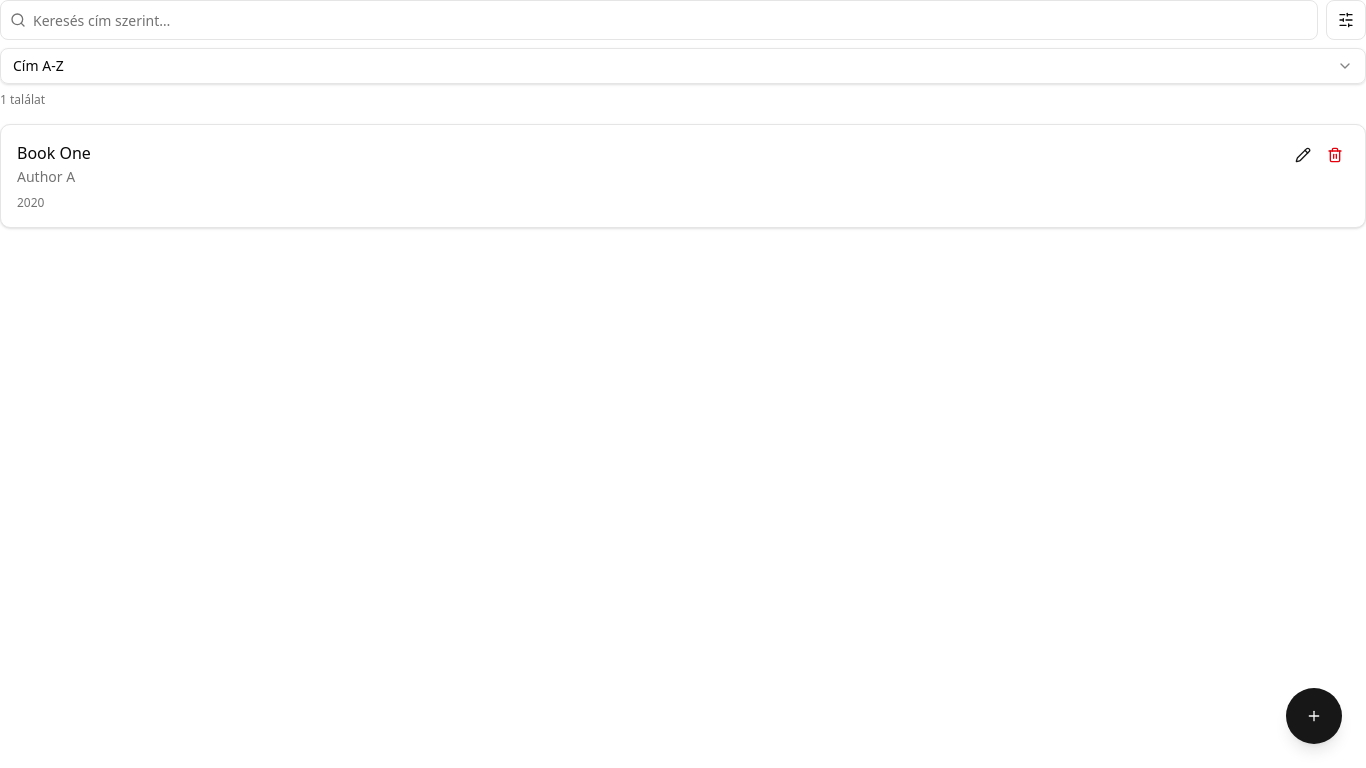
Test: BookCardView — data & rendering › tapping a card opens the BookDetailPanel
The image size is (1366, 768).
Click the button with test id "book-card" at (54,153), box [0,124,1365,228]
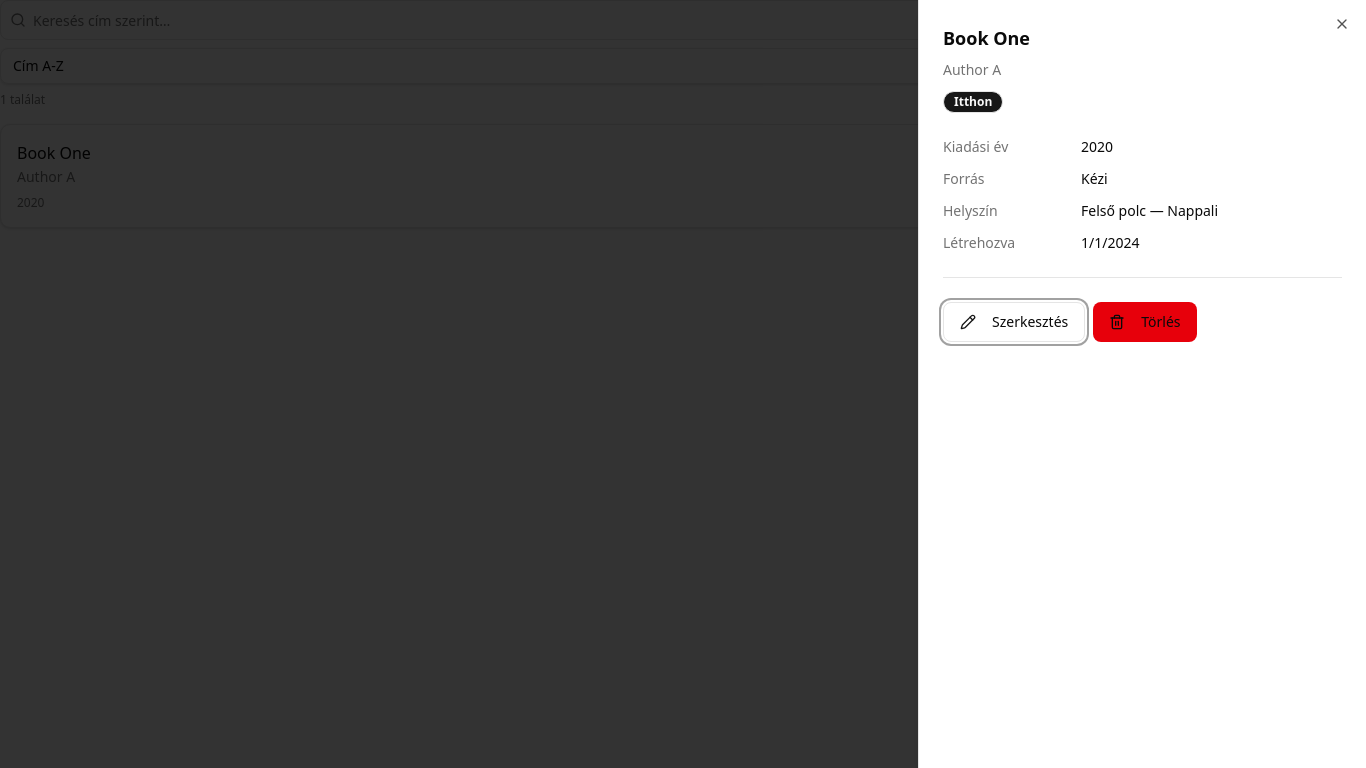
Expected: the dialog is shown, [918,0,1365,767]
